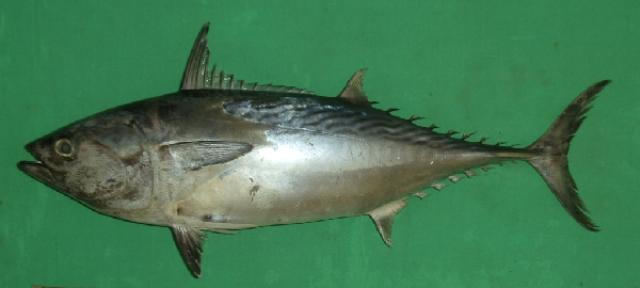Mulut: (9, 130, 63, 189)
Sirip Anal: (356, 186, 410, 252)
Sirip Dada: (162, 134, 260, 178)
Sirip Ekor: (530, 71, 622, 238)
Sirip Perut: (169, 217, 215, 281)
Sirip Punggung: (175, 19, 395, 113)
